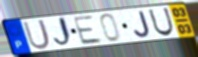0: (98, 12, 123, 43)
E: (71, 14, 104, 46)
J: (52, 15, 75, 49), (132, 10, 152, 39)
U: (22, 19, 52, 51), (147, 7, 176, 37)
